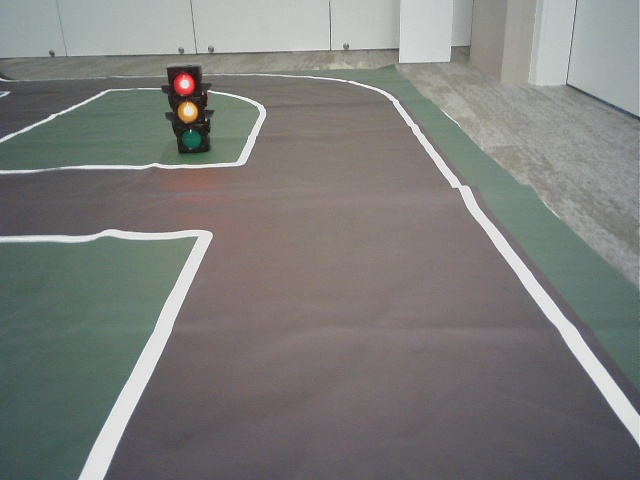red: (170, 67, 204, 149)
